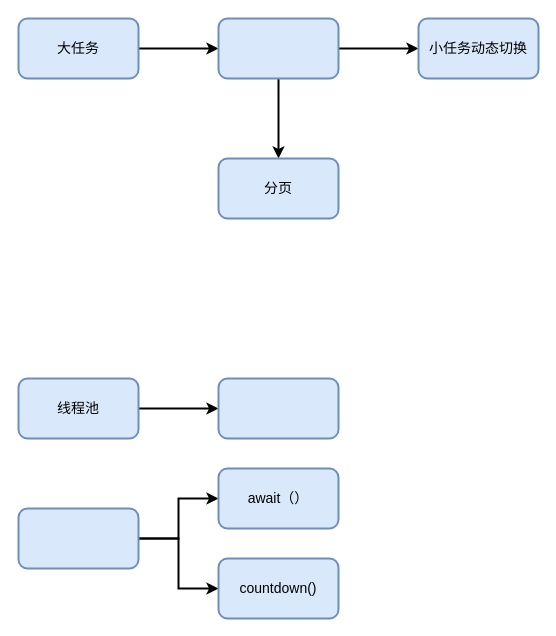
The diagram is 556 pixels wide and 636 high, and some of its shapes have lost their labels. Each missing label, with the centre of its shape:
countdownlatch: pixel 78 538
runnbaleTask: pixel 278 408
小任务: pixel 278 48
